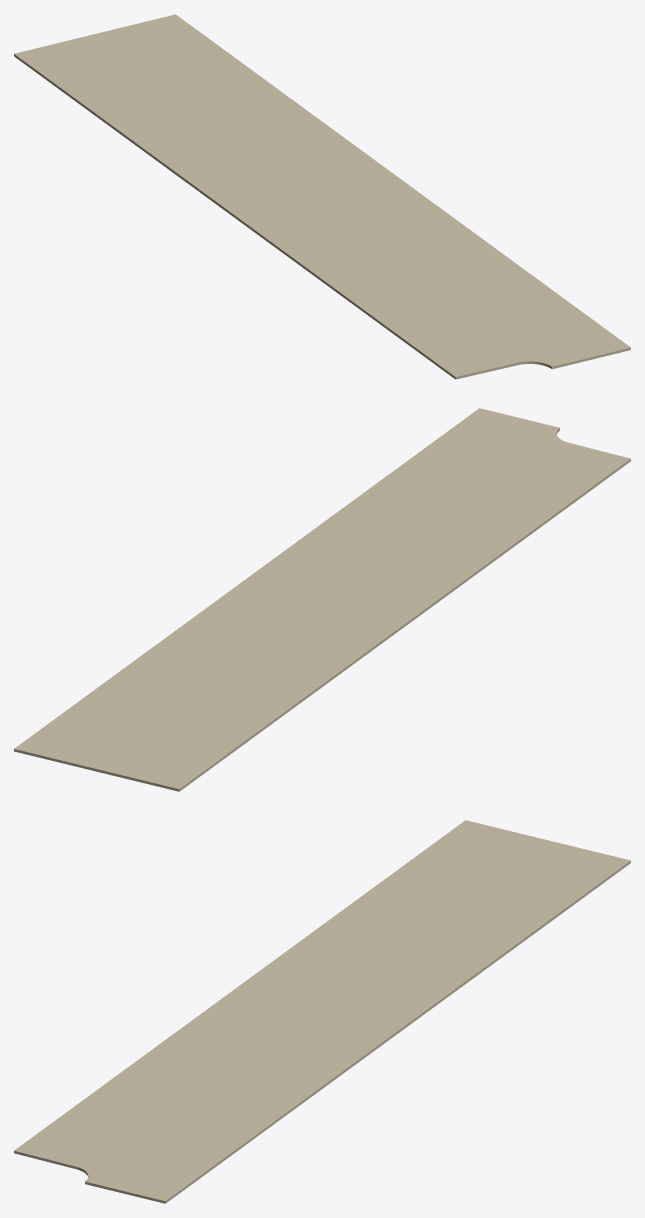
File: COURT_D09_SA_01__floor.glb
3 renders of one model, top to bottom at view 1: azimuth 30°, elevation 25°; view 2: azimuth 150°, elevation 25°; view 3: azimuth 330°, elevation 25°, orthographic. The views are drawn at different scales.
Parts seen in each view (by area): view 1: COURT_D09_SA_01__floor__warm_stone; view 2: COURT_D09_SA_01__floor__warm_stone; view 3: COURT_D09_SA_01__floor__warm_stone.
Boxes of the visible parts, <box> form: COURT_D09_SA_01__floor__warm_stone: <box>14,14,630,379</box>; COURT_D09_SA_01__floor__warm_stone: <box>14,408,630,791</box>; COURT_D09_SA_01__floor__warm_stone: <box>14,820,630,1203</box>.
Size of the model in its own units: 16 by 0.24 by 78.
1 material, 1 textured.
